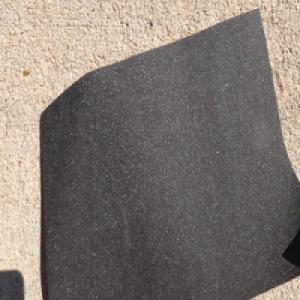PaintChip: (39, 15, 300, 300)
